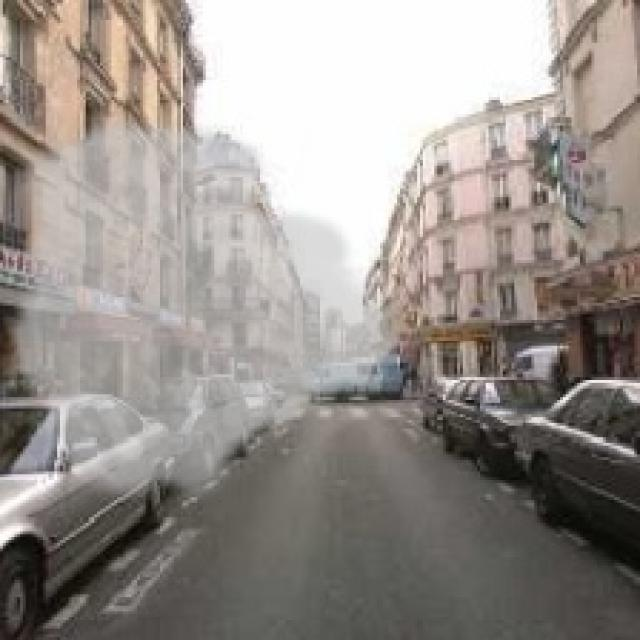smoke: (3, 111, 408, 512)
